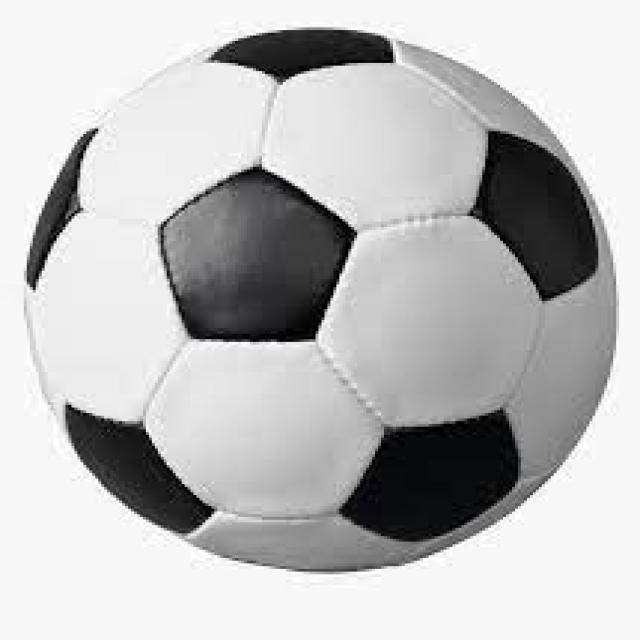ball: (23, 27, 620, 574)
